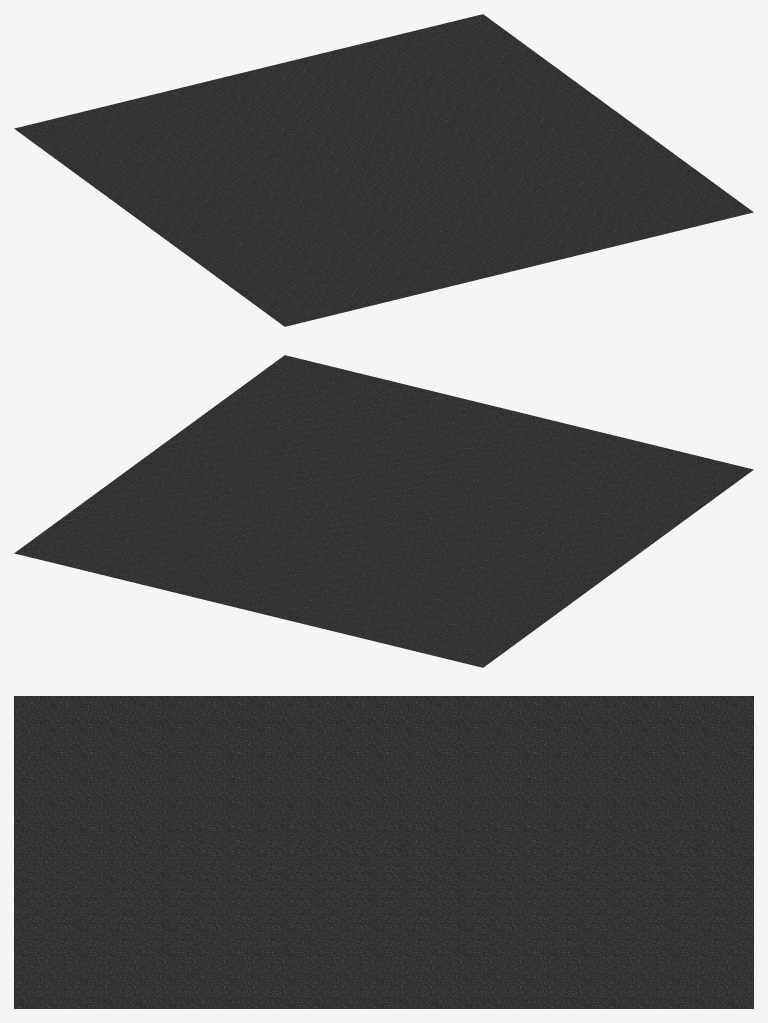
Rendered from ground_road.glb.
3 views of the same model, one above another, from view 1: azimuth 30°, elevation 25°; view 2: azimuth 150°, elevation 25°; view 3: azimuth 270°, elevation 25° (orthographic). The views are drawn at different scales.
Parts seen in each view (by area): view 1: Cube.002; view 2: Cube.002; view 3: Cube.002.
Part boxes in pixels (<box>): Cube.002: <box>14,14,753,326</box>; Cube.002: <box>14,355,753,667</box>; Cube.002: <box>14,696,753,1008</box>.
Size of the model in its own units: 50 by 0.002 by 50.
Materials: 625 (625 with a texture image).
